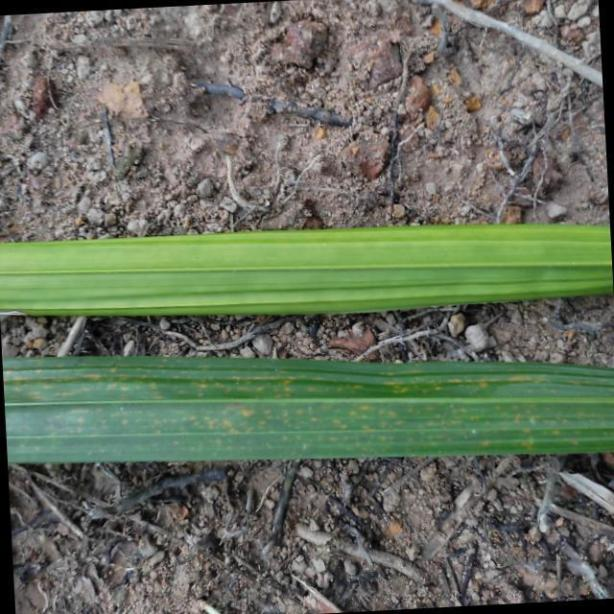nitrogen: (0, 219, 614, 317)
